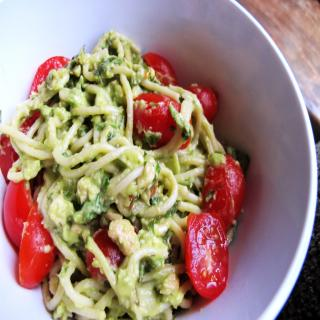tomato: (186, 212, 230, 300), (203, 153, 246, 232), (134, 93, 192, 151), (15, 218, 58, 292), (3, 168, 32, 246), (28, 55, 68, 98), (140, 51, 178, 88), (186, 86, 218, 119)
